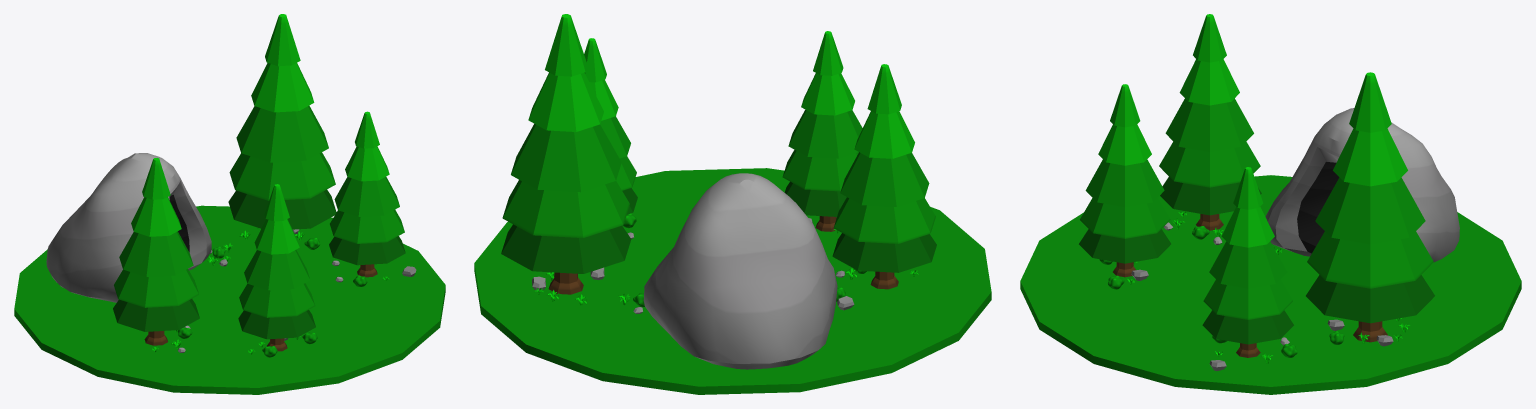
File: Tempat Kaelen.fbx
3 renders of one model, left to right at view 1: azimuth 30°, elevation 25°; view 2: azimuth 150°, elevation 25°; view 3: azimuth 270°, elevation 25°, orthographic. The views are drawn at different scales.
Parts seen in each view (by area): view 1: Tempat Kaelen; view 2: Tempat Kaelen; view 3: Tempat Kaelen.
Boxes of the visible parts, <box> form: Tempat Kaelen: <box>14,14,445,394</box>; Tempat Kaelen: <box>474,14,991,394</box>; Tempat Kaelen: <box>1020,14,1521,394</box>.
Size of the model in its own units: 4211 by 2491 by 4211.
